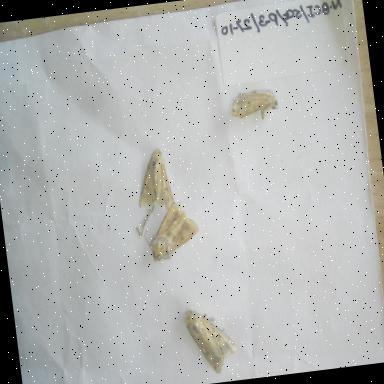abw: (122, 144, 184, 244), (178, 302, 243, 384), (142, 198, 205, 265), (221, 81, 291, 124)
